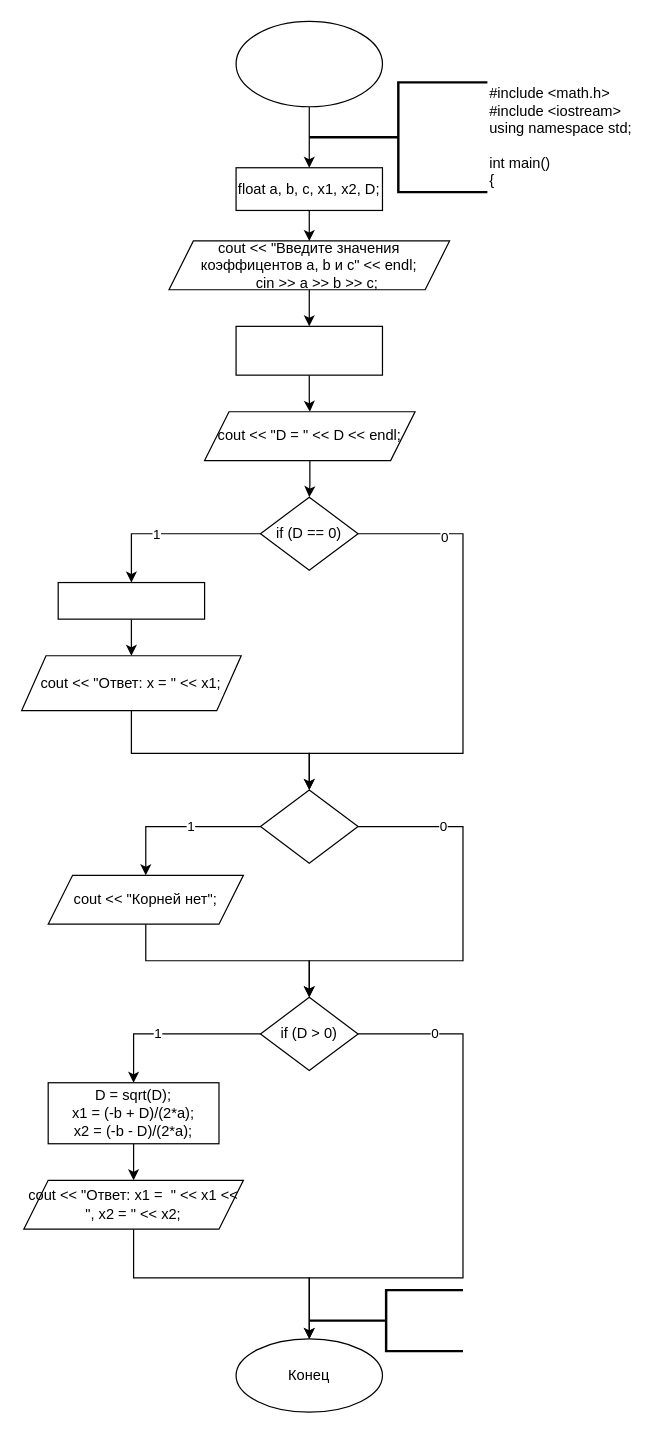
This 654x1434 diagram has some shape labels left out. Each missing label, with the centre of its shape:
D = (b*b) - (4*a*c);: point 308,350
if (D < 0): point 308,826
return 0; }: point 385,1320
x1 = -b/(2*a);: point 131,600
Запуск: point 308,63
